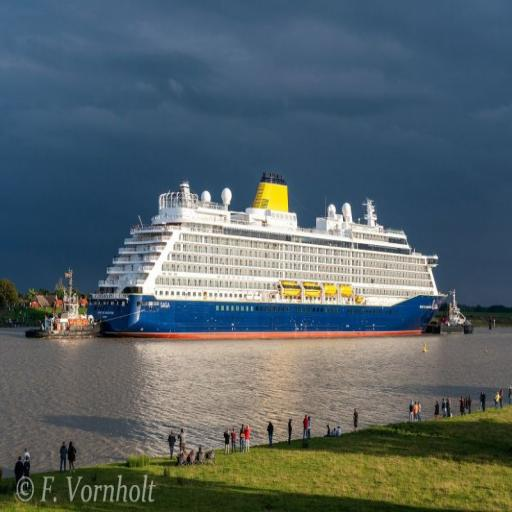cruises: (87, 172, 448, 349)
